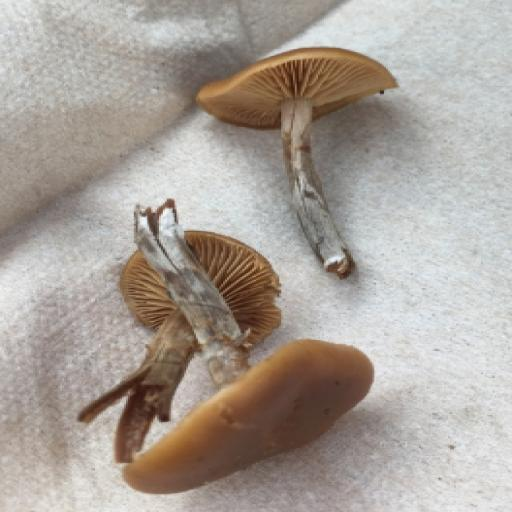Funeral Bell: (88, 192, 380, 497), (184, 41, 426, 282)
